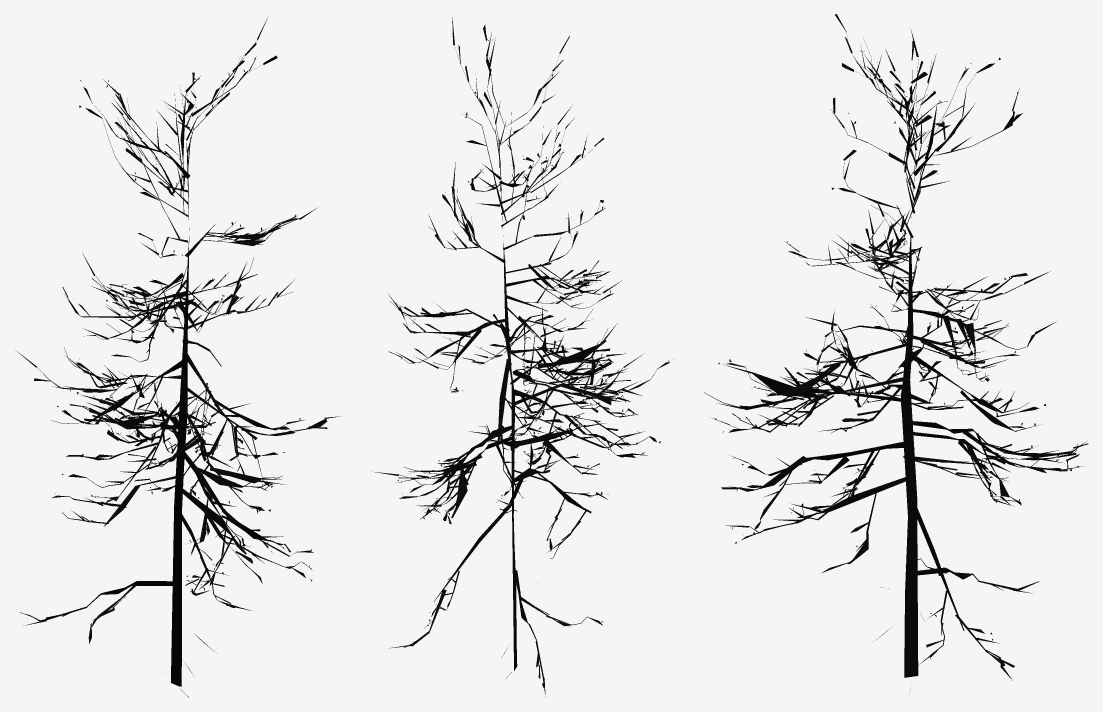
Rendered from Pine_Open_B.glb.
The picture shows the model from 3 angles, left to right: view 1: azimuth 30°, elevation 25°; view 2: azimuth 150°, elevation 25°; view 3: azimuth 270°, elevation 25°; orthographic projection. The views are drawn at different scales.
Visible parts, largest first — view 1: tree; view 2: tree; view 3: tree.
Part boxes in pixels (x1,y1,x2,y2): tree: (17, 16, 339, 697); tree: (372, 17, 673, 696); tree: (704, 14, 1088, 694).
Size of the model in its own units: 3.91 by 9.62 by 4.9.
Materials: 1 (1 with a texture image).
